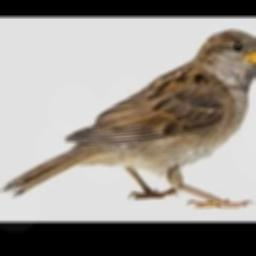Sparrow: (1, 30, 256, 208)
